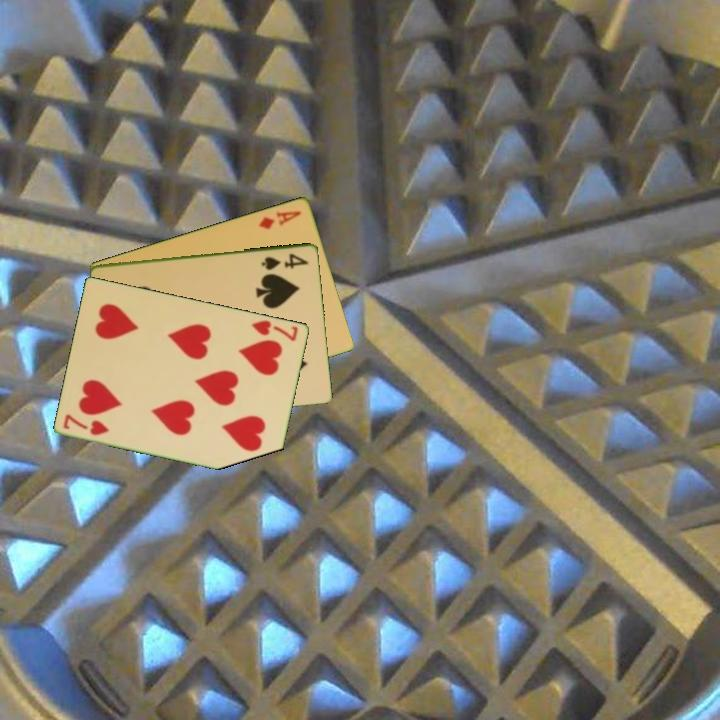4s: (258, 250, 311, 273)
7h: (60, 410, 113, 438), (249, 316, 301, 344)
Ad: (255, 207, 304, 232)
